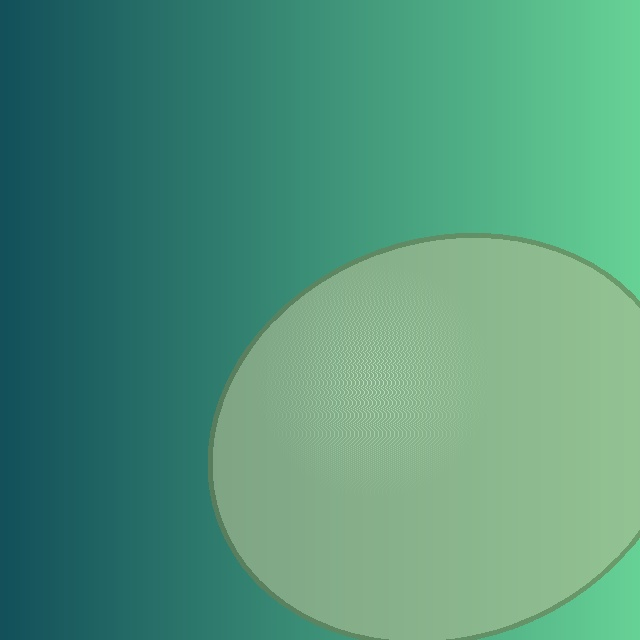lens: (210, 236, 640, 640)
